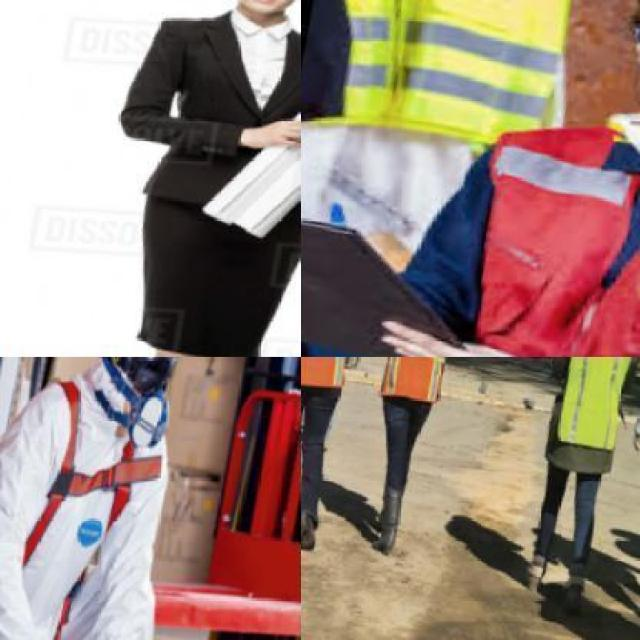Vest: (388, 37, 638, 355), (303, 0, 615, 191), (0, 357, 205, 638), (534, 357, 638, 466), (355, 357, 474, 420)
